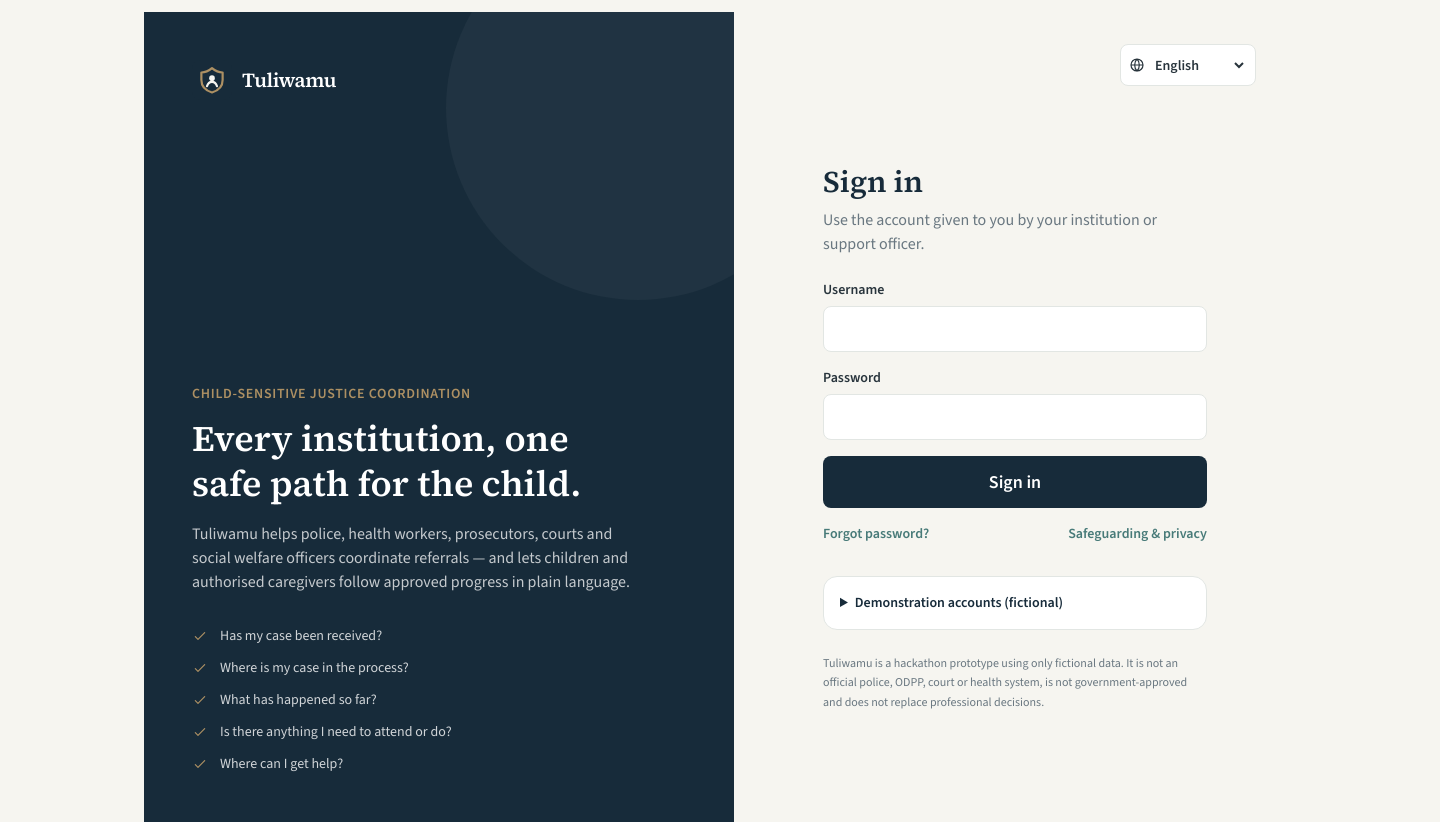
Test: authentication journeys › shows a report waiting for police verification with the 24-hour promise
Step 1. Type "complainant.demo" into the field labelled "Username" → (1015, 329), box [823,306,1207,352]
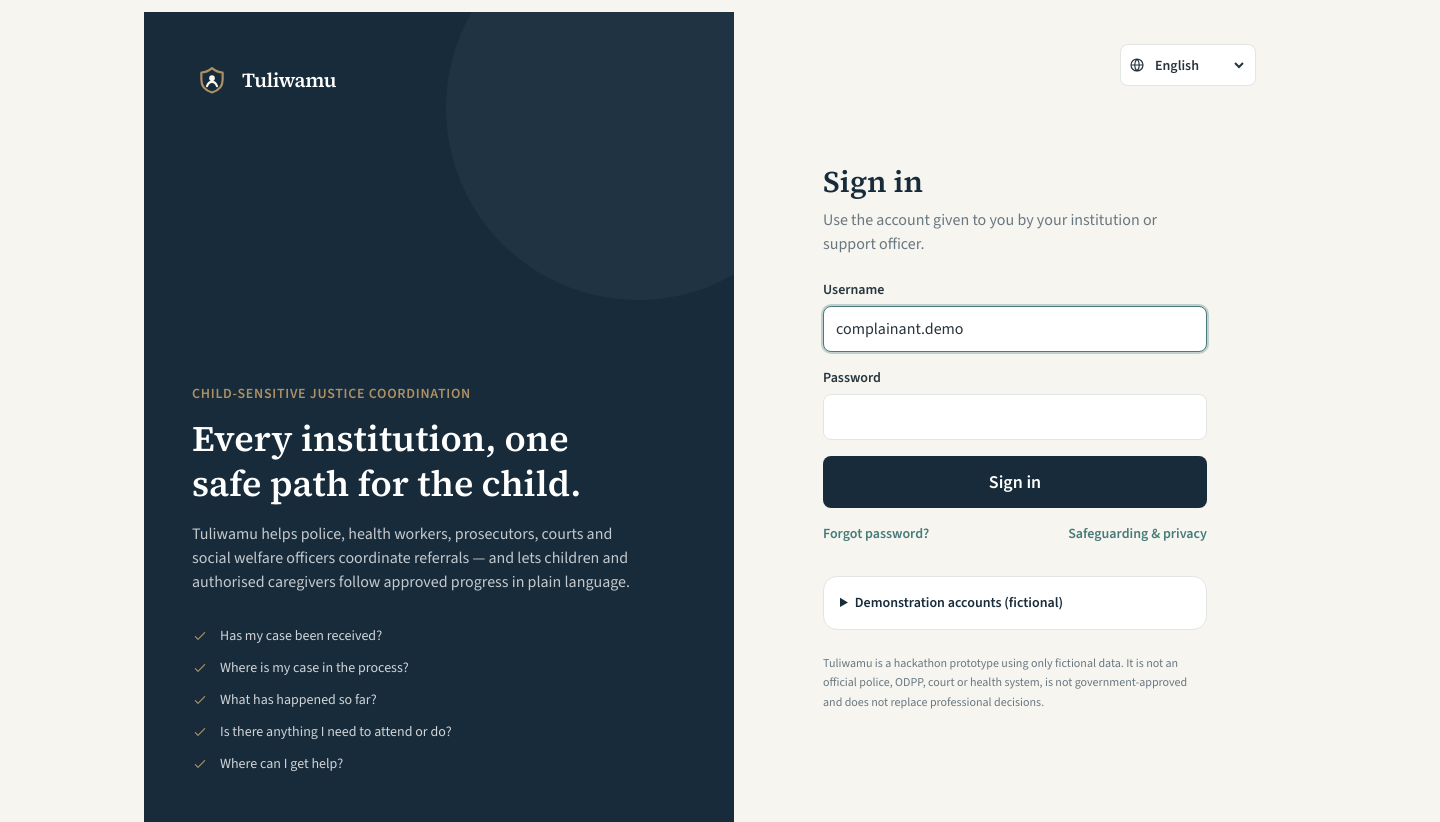
Step 2. Type "pw" into the password field labelled "Password" → (1015, 417), box [823,394,1207,440]
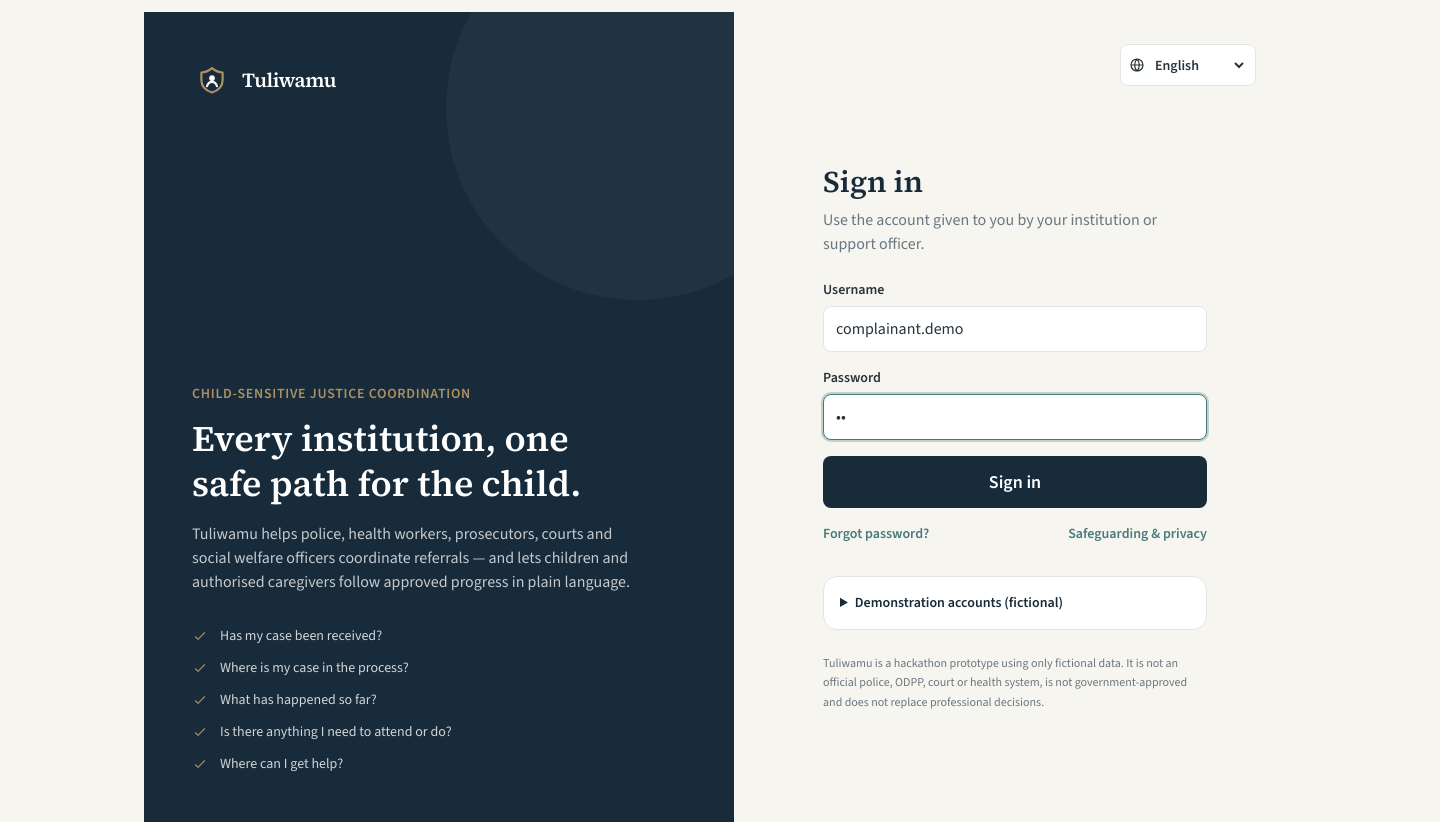
Step 3. Click the button "Sign in" → (1015, 482), box [823,456,1207,508]
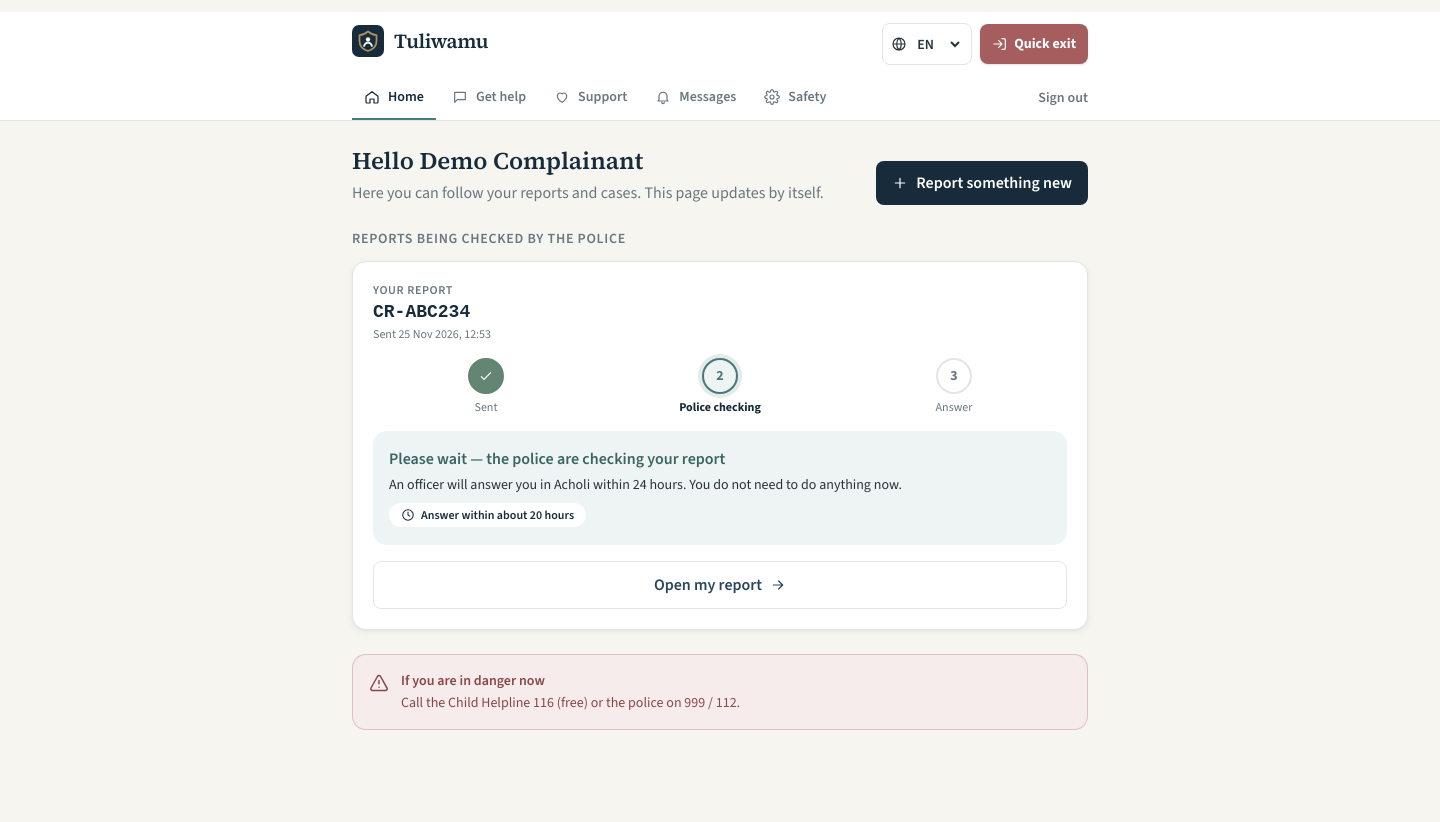
Expected: the text "CR-ABC234" is shown, [373,302,470,322]
Expected: the text "answer you in Acholi within 24 hours" is shown, [389,475,902,494]
